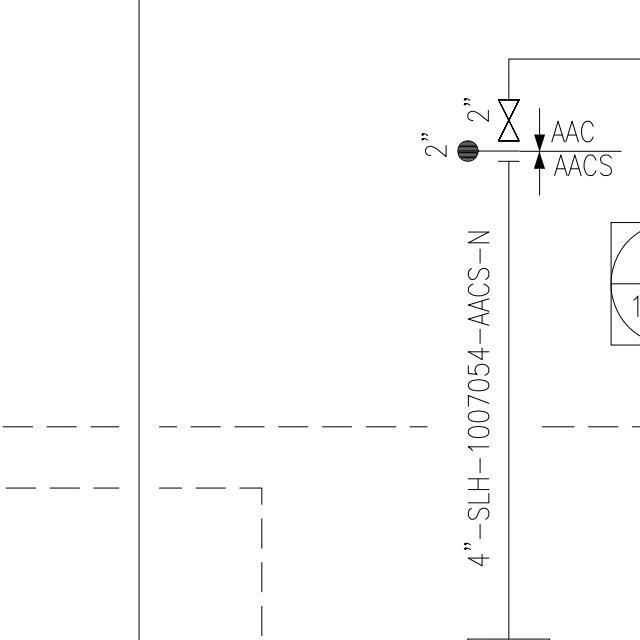GV: (494, 96, 521, 146)
